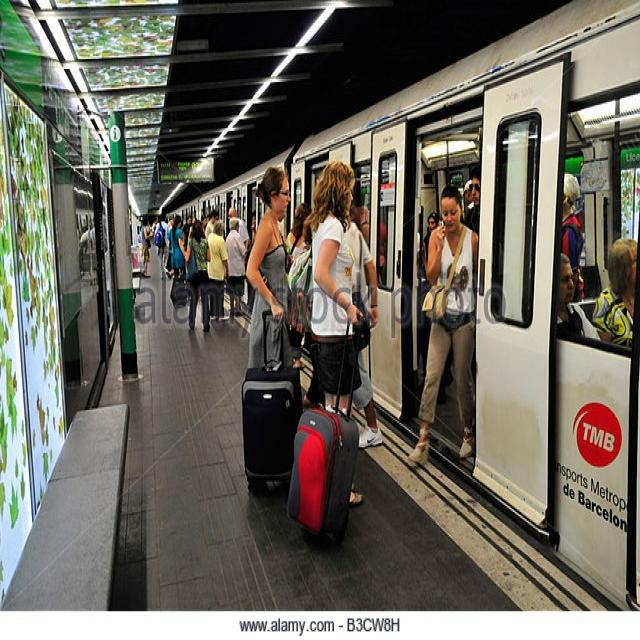body: (284, 157, 368, 509), (406, 183, 480, 466), (245, 164, 297, 371), (344, 213, 385, 450), (592, 236, 640, 351), (556, 250, 602, 341), (349, 180, 388, 282), (183, 217, 212, 334), (206, 220, 231, 324), (559, 170, 584, 274), (224, 214, 247, 322), (284, 202, 313, 264), (166, 214, 188, 280), (152, 212, 171, 280), (422, 210, 440, 278), (466, 165, 482, 238), (227, 204, 251, 249), (186, 332, 214, 362), (140, 217, 152, 278), (204, 208, 220, 238), (181, 213, 193, 252), (213, 322, 230, 344), (148, 213, 158, 243), (166, 209, 176, 233), (251, 206, 257, 244), (163, 252, 170, 278), (136, 226, 142, 246)
